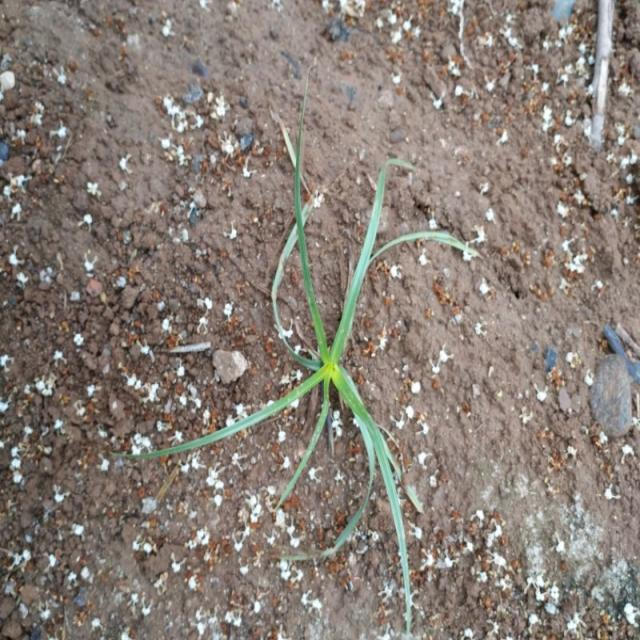sedge: (178, 207, 480, 605)
